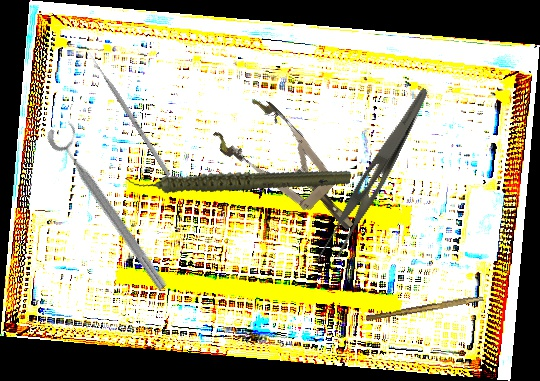Dressing Forceps: (314, 77, 430, 272)
Fixation Ring: (43, 117, 181, 294)
Handpiece: (123, 124, 353, 232)
Pusher: (86, 50, 172, 177)
Scalpel Handle: (365, 292, 484, 324)
Speculum: (208, 89, 375, 253)
